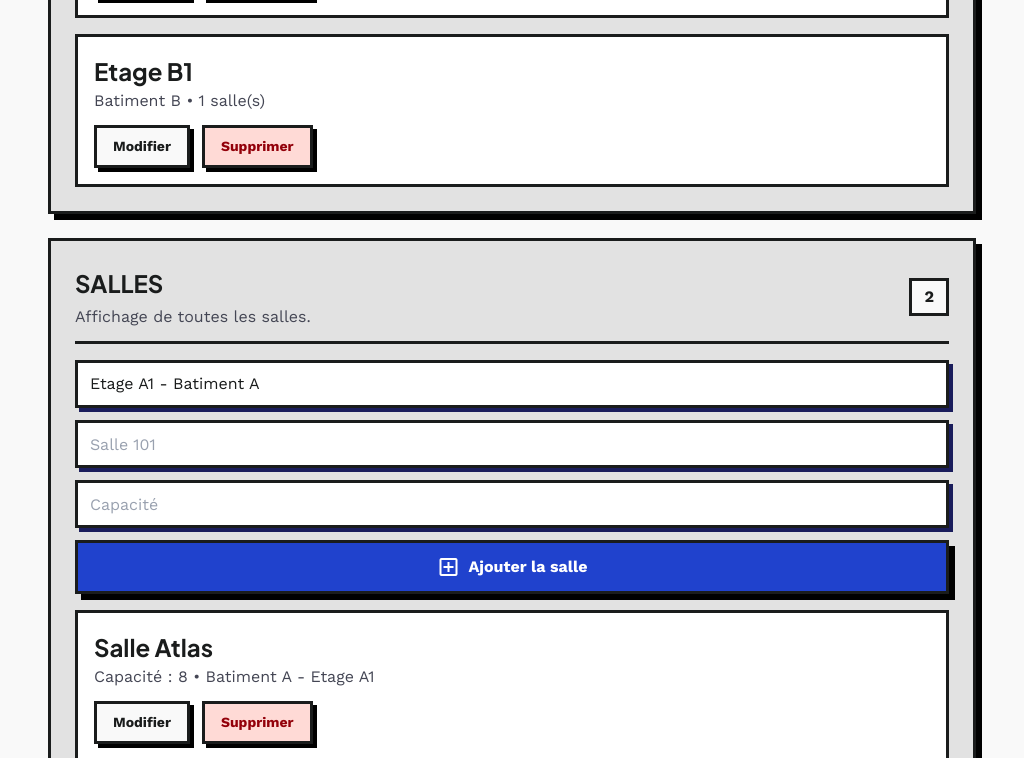
Test: Admin › cree une salle via POST /rooms
(page scrolled)
Select "Etage B1 - Batiment B" in the dropdown: x=512, y=384 left=75, top=360, right=949, bottom=408
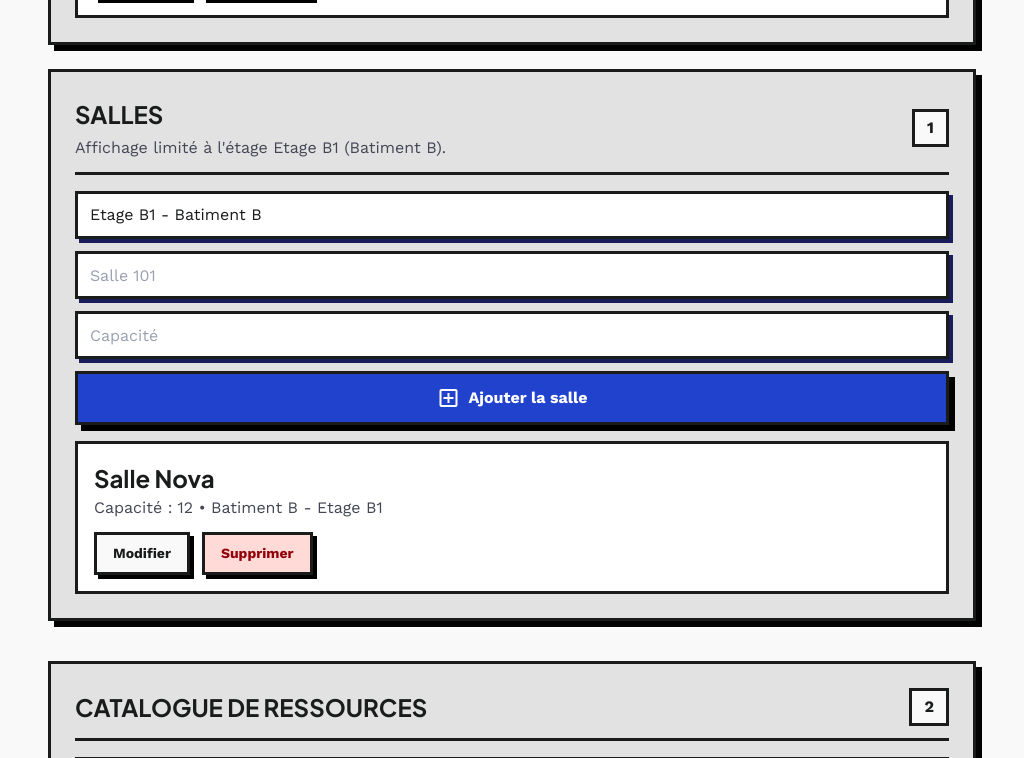
In the field with placeholder "Salle 101": x=512, y=275 left=75, top=251, right=949, bottom=299, type "Salle Vega"
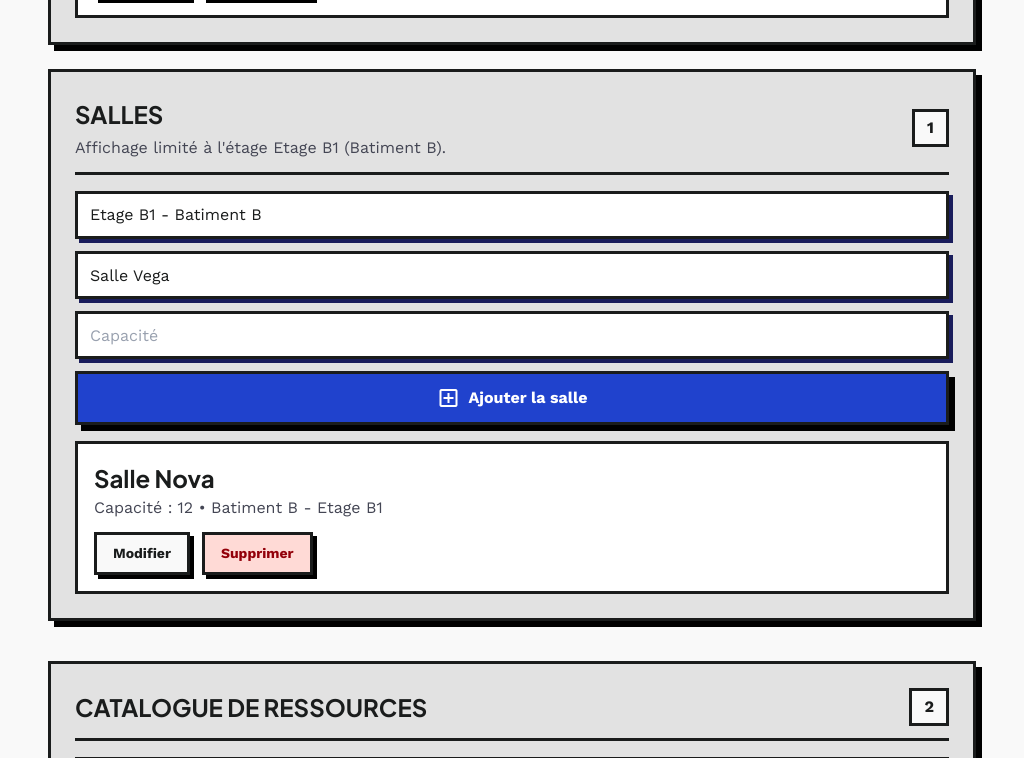
In the number field with placeholder "Capacité": x=512, y=335 left=75, top=311, right=949, bottom=359, type "14"
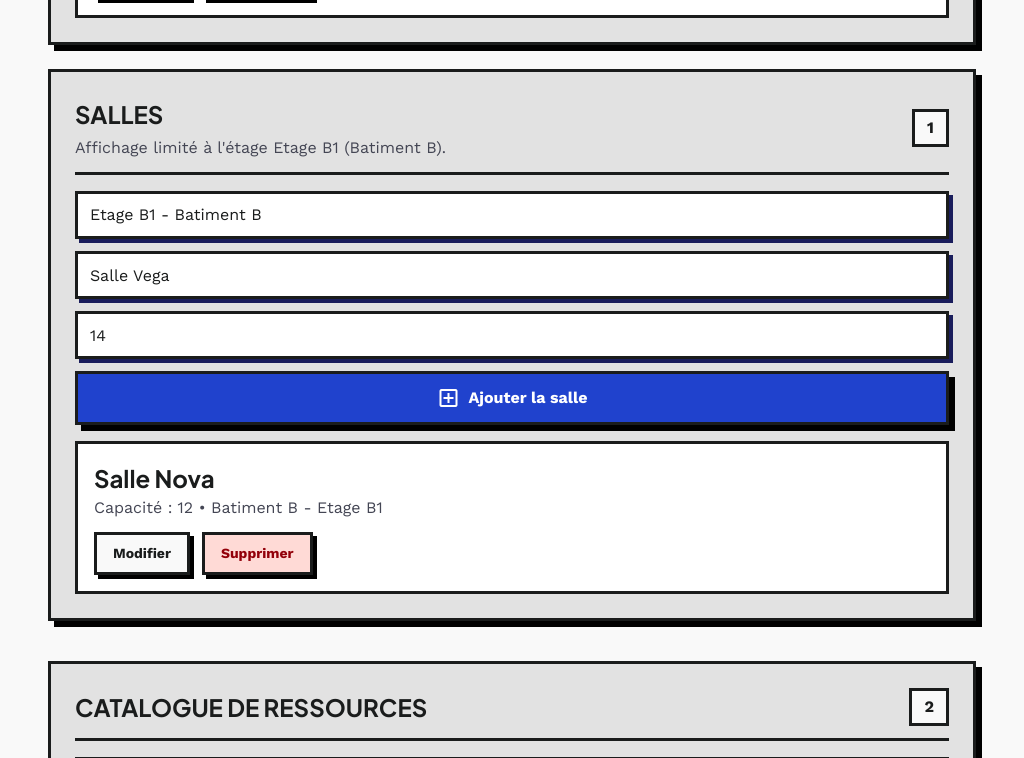
Click the button "Ajouter la salle": x=512, y=398 left=75, top=371, right=949, bottom=425
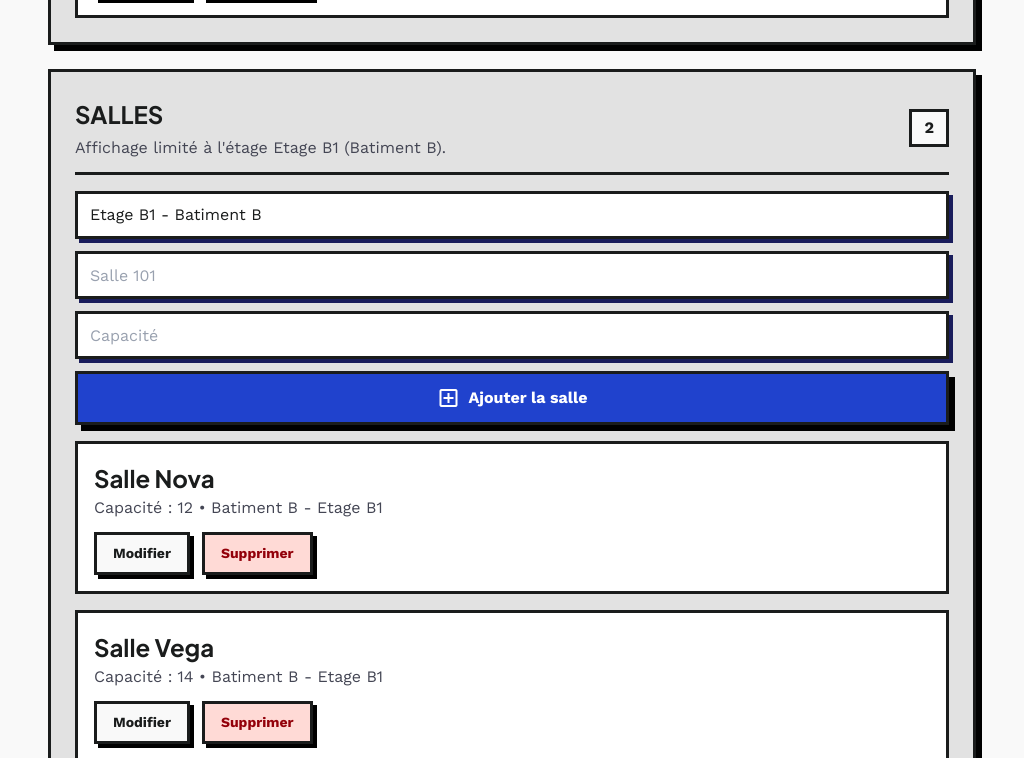
expect the heading "Salle Vega" is shown: met, box left=94, top=632, right=214, bottom=662
expect the field with placeholder "Salle 101" is empty: met, box left=75, top=251, right=949, bottom=299
expect the number field with placeholder "Capacité" is not empty: met, box left=75, top=311, right=949, bottom=359
